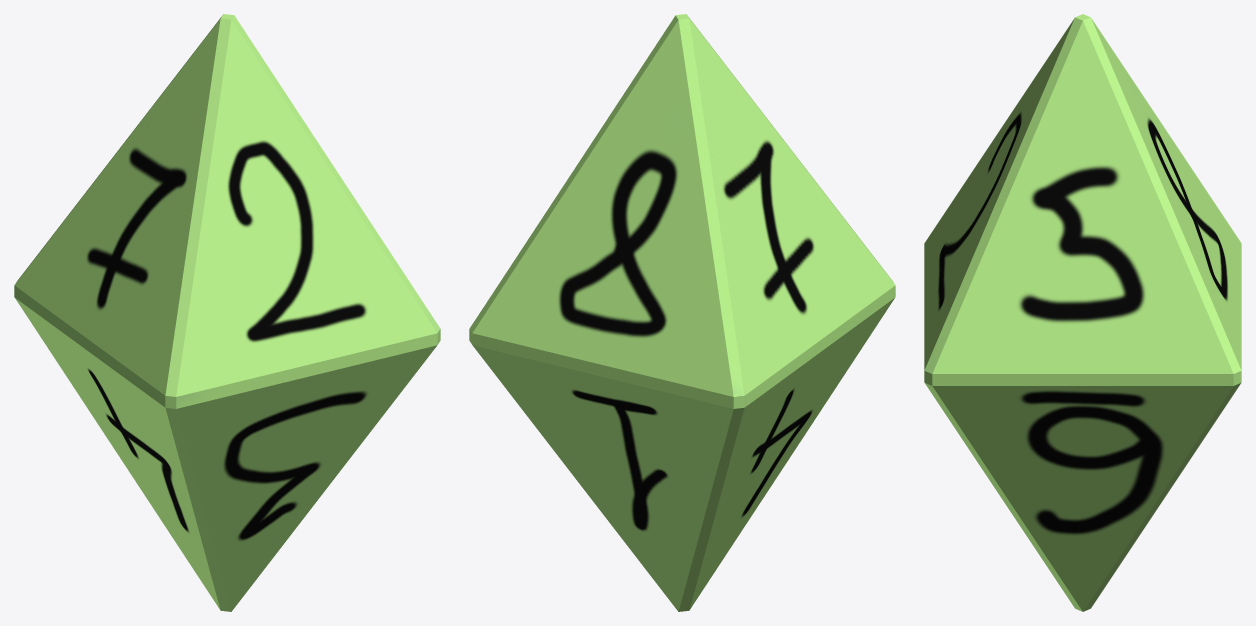
File: d_eight.fbx
3 views of the same model, side by side, from view 1: azimuth 30°, elevation 25°; view 2: azimuth 150°, elevation 25°; view 3: azimuth 270°, elevation 25° (orthographic).
Visible parts, largest first — view 1: Cone; view 2: Cone; view 3: Cone.
Part boxes in pixels (x1,y1,x2,y2): Cone: [14, 14, 440, 611]; Cone: [469, 14, 895, 611]; Cone: [924, 14, 1241, 611].
Size of the model in its own units: 1.39 by 2.85 by 1.39.
